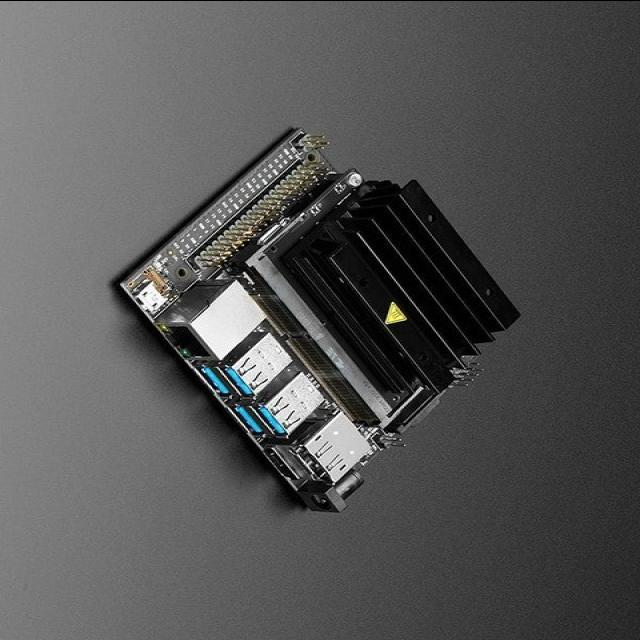Jetson Nano: (121, 127, 524, 512)
